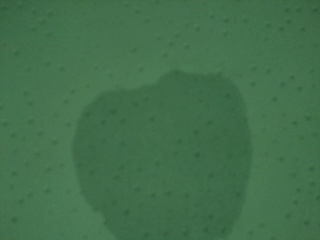Water_detected: (87, 95, 221, 228)
